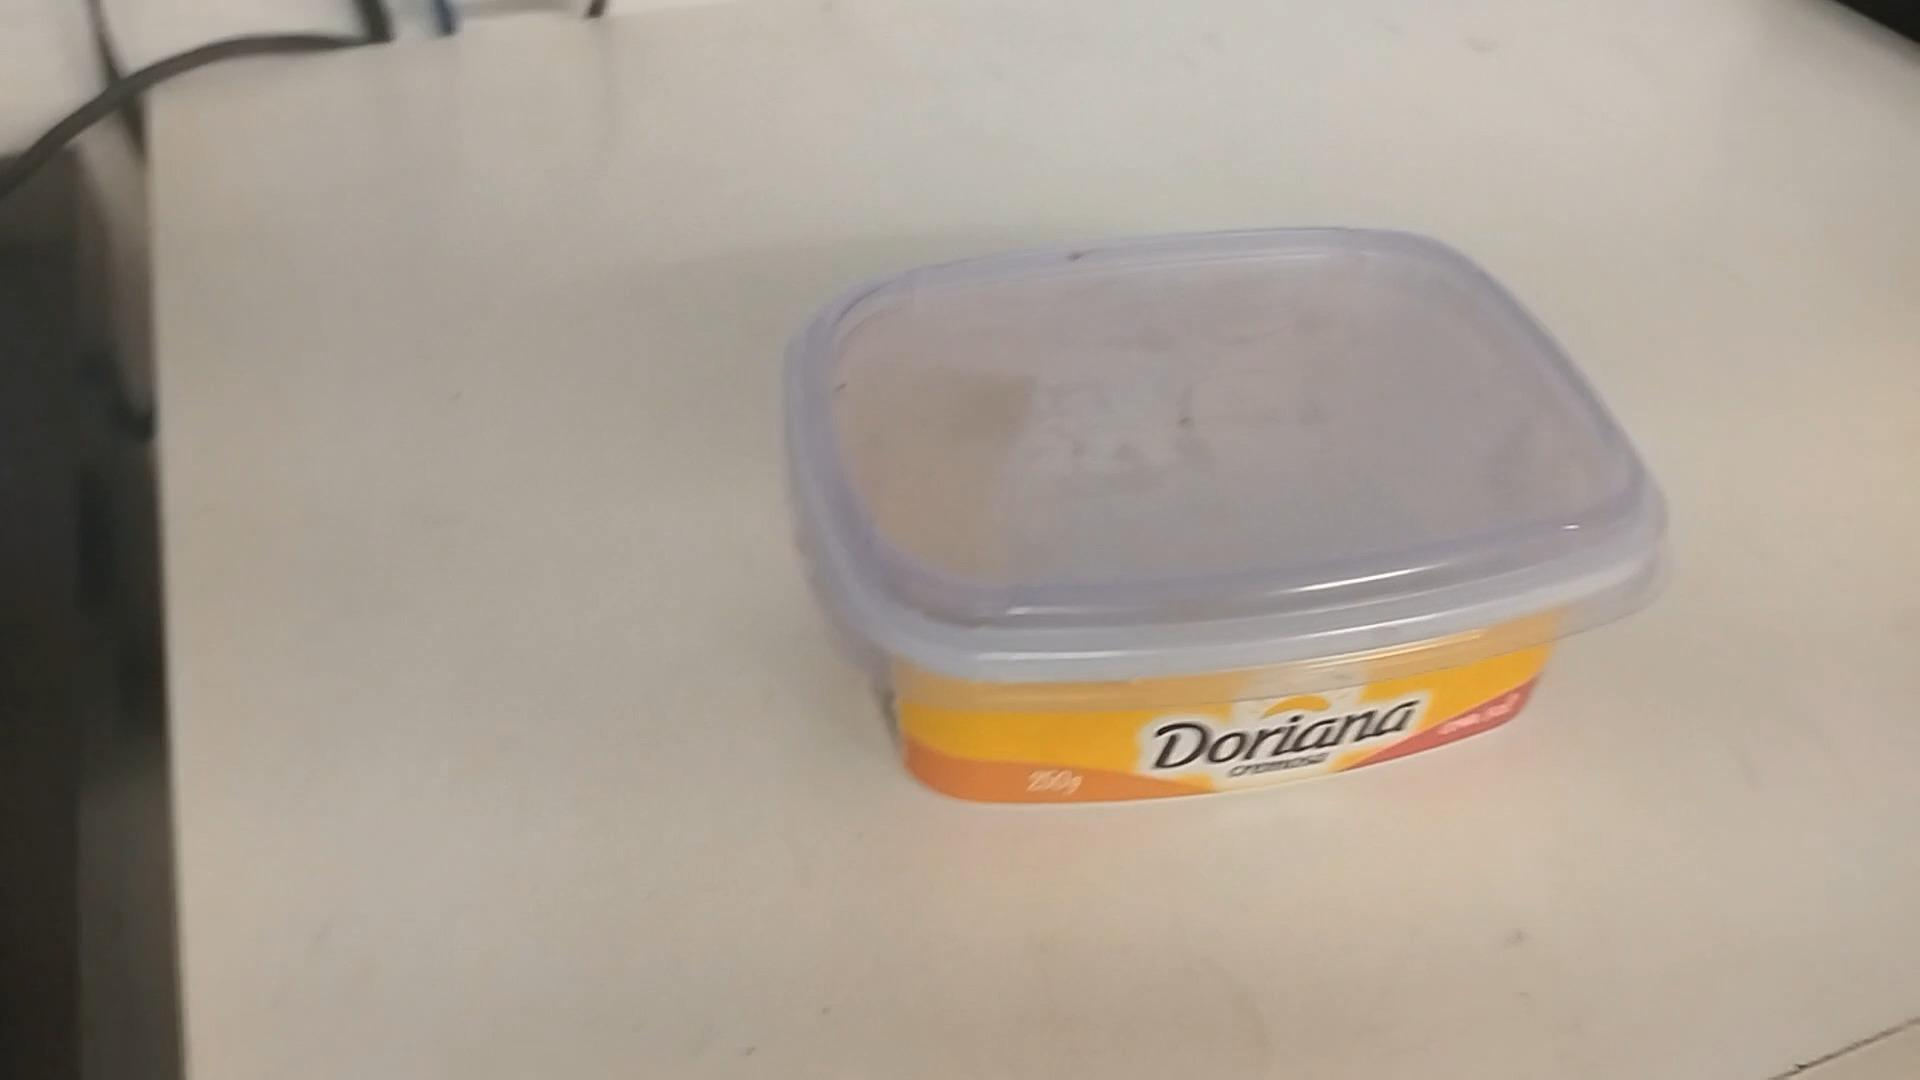butter: (787, 233, 1675, 806)
